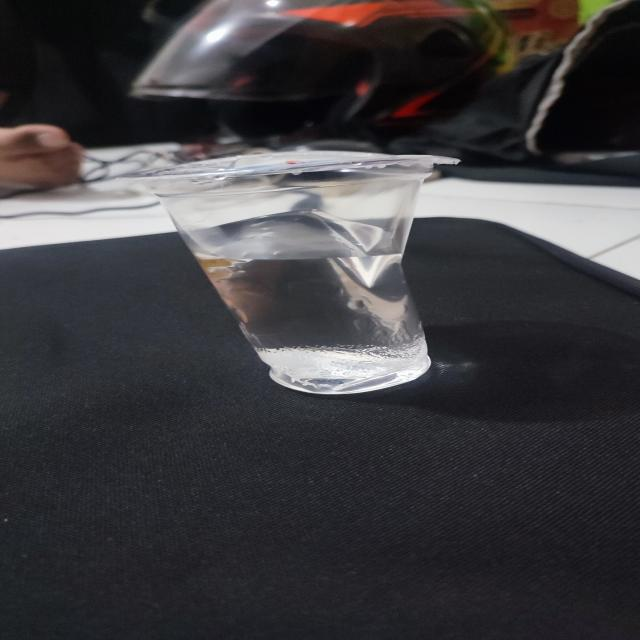air-gelas-rusak: (129, 147, 504, 406)
